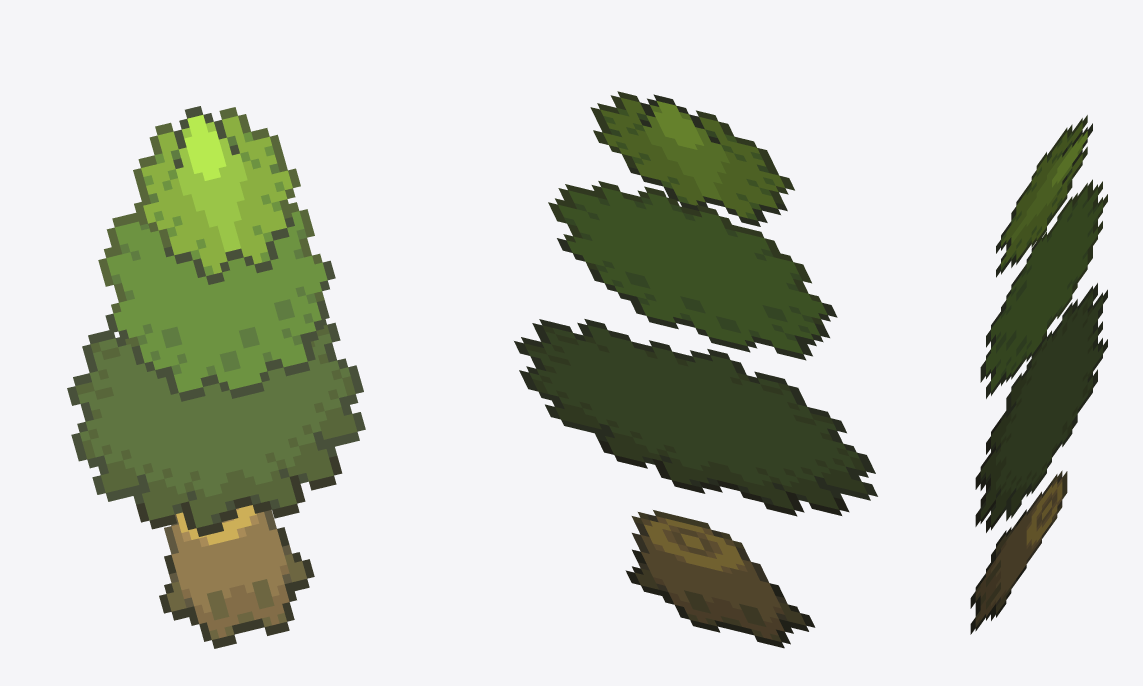
The picture shows the model from 3 angles, left to right: view 1: azimuth 30°, elevation 25°; view 2: azimuth 150°, elevation 25°; view 3: azimuth 270°, elevation 25°; orthographic projection. The views are drawn at different scales.
Parts seen in each view (by area): view 1: 00_polygon0; view 2: 00_polygon0; view 3: 00_polygon0.
Boxes of the visible parts, left/top/right/bottom form: 00_polygon0: left=67, top=106, right=365, bottom=648; 00_polygon0: left=514, top=91, right=877, bottom=648; 00_polygon0: left=970, top=115, right=1107, bottom=634.
Size of the model in its own units: 0.1875 by 0.3026 by 0.0817.
1 material, 1 textured.
